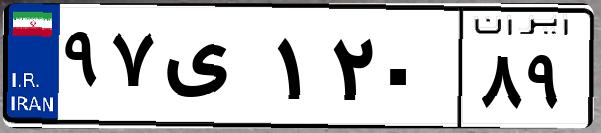0: (385, 28, 445, 110)
1: (270, 28, 330, 110)
2: (330, 28, 385, 110)
7: (110, 28, 158, 98)
8: (475, 38, 525, 113)
9: (57, 26, 110, 100), (525, 38, 570, 115)
ی: (158, 20, 270, 120)
